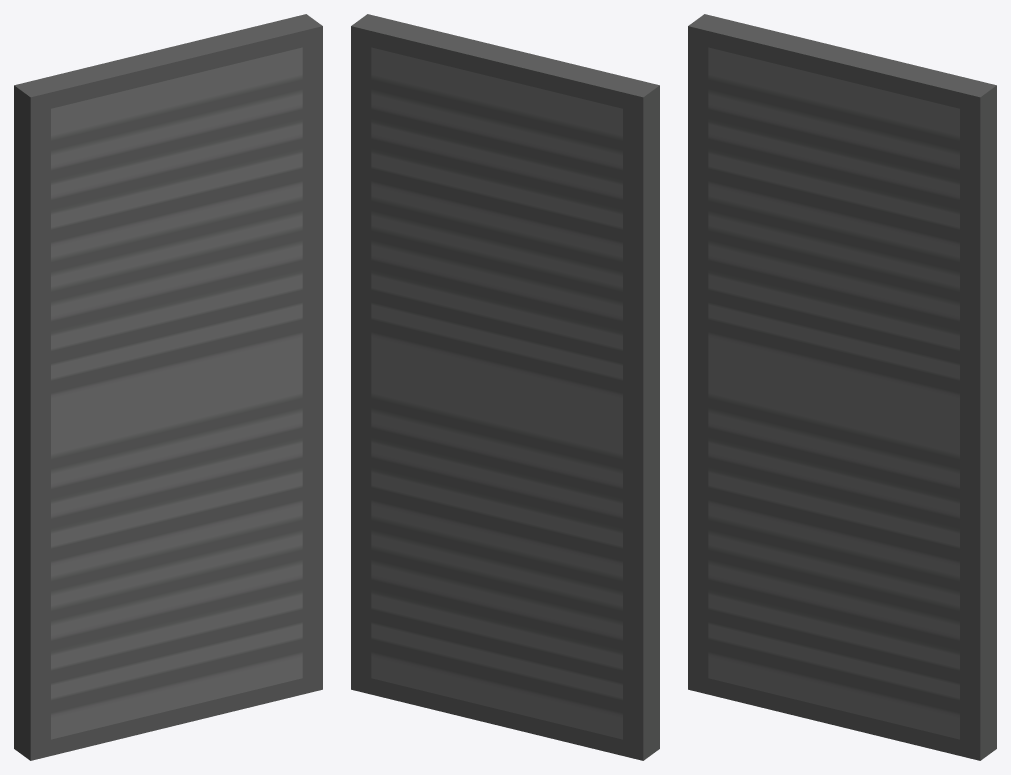
Rendered from SM_Bld_Hangar_Door_Small_01.glb.
3 views of the same model, side by side, from view 1: azimuth 30°, elevation 25°; view 2: azimuth 150°, elevation 25°; view 3: azimuth 330°, elevation 25° (orthographic).
Parts seen in each view (by area): view 1: SM_Bld_Hangar_Door_Small_01; view 2: SM_Bld_Hangar_Door_Small_01; view 3: SM_Bld_Hangar_Door_Small_01.
Boxes of the visible parts, bbox=[...] form: SM_Bld_Hangar_Door_Small_01: bbox=[14, 14, 322, 760]; SM_Bld_Hangar_Door_Small_01: bbox=[351, 14, 659, 760]; SM_Bld_Hangar_Door_Small_01: bbox=[688, 14, 996, 760].
Size of the model in its own units: 1.03 by 2.22 by 0.1005.
1 material, 1 textured.
